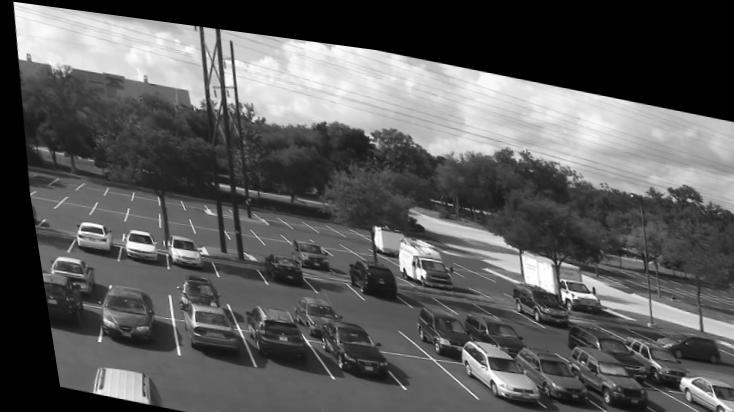empty: (374, 340, 468, 386), (633, 370, 714, 411), (352, 308, 404, 338), (205, 254, 263, 279), (107, 266, 156, 293), (474, 293, 532, 312), (427, 286, 482, 304), (300, 271, 352, 290), (28, 229, 68, 251), (521, 321, 564, 341), (223, 287, 267, 306), (638, 307, 694, 321), (437, 251, 484, 267), (37, 211, 74, 231), (393, 280, 438, 295), (118, 211, 155, 229), (219, 226, 262, 241), (608, 305, 657, 318), (85, 205, 122, 222), (589, 308, 636, 321), (183, 221, 225, 235), (248, 203, 282, 220), (154, 216, 188, 232), (211, 216, 248, 230), (51, 200, 87, 214), (90, 196, 122, 211), (351, 243, 390, 255), (151, 192, 181, 207), (272, 221, 306, 234), (24, 194, 55, 208), (279, 211, 310, 225), (242, 219, 278, 231), (319, 241, 358, 252), (184, 210, 217, 223), (83, 213, 113, 227), (28, 186, 62, 198), (153, 207, 187, 219), (174, 194, 204, 207), (122, 202, 154, 214), (61, 192, 92, 204), (23, 172, 53, 184), (334, 231, 369, 241), (128, 187, 153, 201), (305, 228, 339, 238), (252, 230, 285, 240), (323, 252, 350, 264), (329, 219, 361, 229), (305, 216, 334, 227), (51, 177, 75, 190), (104, 184, 125, 198), (244, 243, 267, 255), (75, 182, 100, 193)
occupied: (443, 328, 531, 387), (559, 331, 636, 394), (504, 334, 585, 388), (233, 298, 304, 358), (308, 311, 381, 369), (172, 297, 232, 350), (95, 280, 146, 342), (77, 364, 154, 405), (670, 358, 734, 405), (448, 299, 516, 343), (392, 227, 445, 279), (507, 269, 564, 317), (619, 320, 678, 366), (33, 269, 77, 329), (561, 311, 631, 347), (410, 296, 461, 344), (342, 252, 390, 299), (287, 289, 330, 332), (42, 256, 86, 290), (257, 247, 296, 281), (69, 219, 104, 254), (287, 232, 324, 263), (162, 232, 196, 263), (173, 272, 207, 301), (119, 227, 150, 258)
